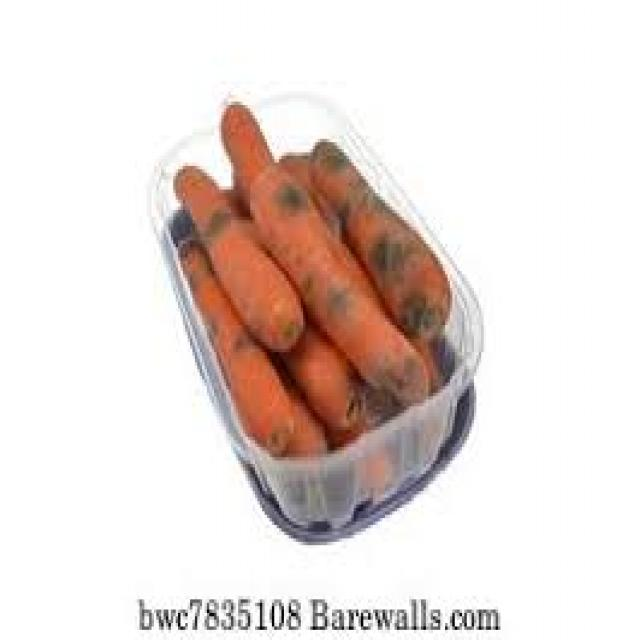organic waste: (248, 163, 397, 379), (305, 139, 450, 345), (176, 234, 291, 450), (171, 162, 298, 346), (274, 315, 361, 433), (325, 369, 397, 481), (274, 152, 342, 244), (219, 98, 274, 203), (277, 359, 325, 457), (388, 328, 428, 403), (414, 335, 440, 386), (166, 203, 185, 247)
